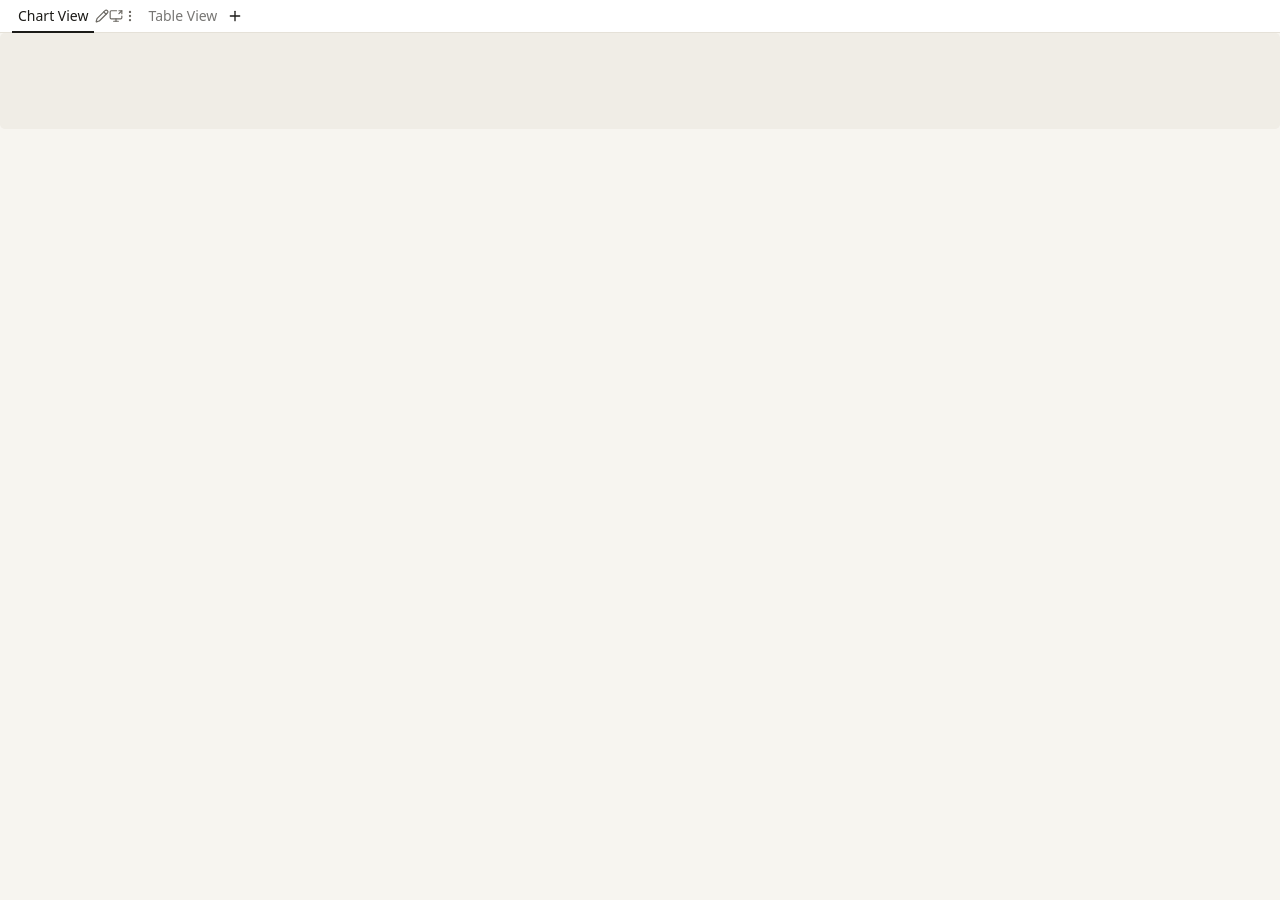
VisualizationTabs › opens the editor on a double-click of the tab
Double-click the tab "Chart View" at (53, 16), box [11,3,96,29]
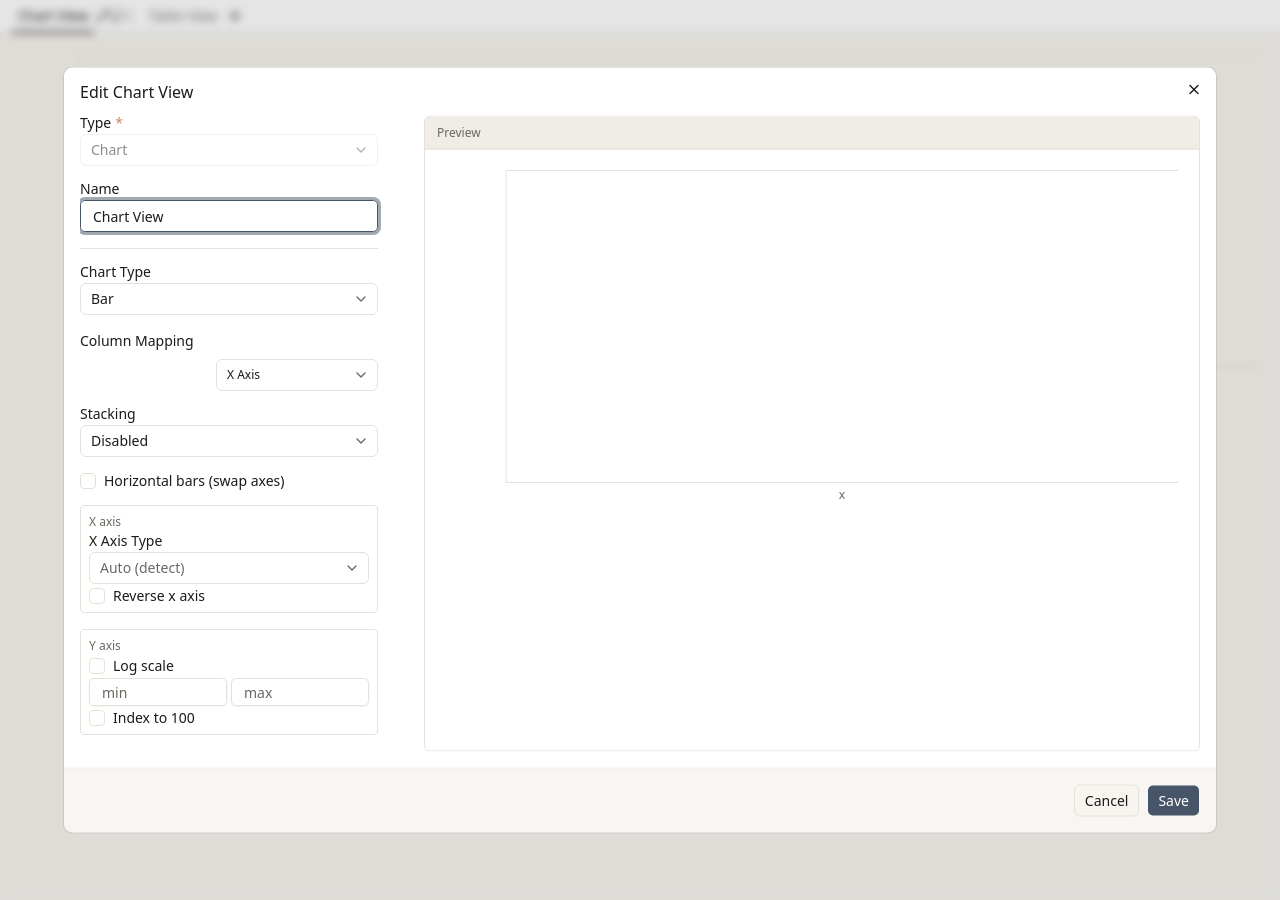
Expected: the dialog is shown
